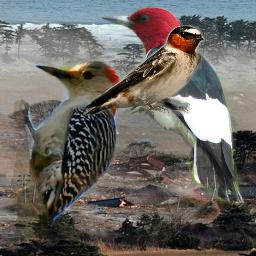Swallow: (82, 24, 205, 116)
Woodpecker: (98, 6, 248, 203), (10, 51, 147, 238)
